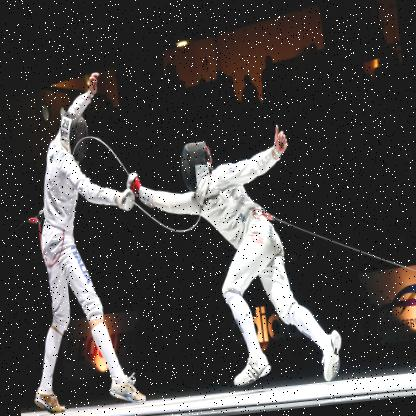fencer: (118, 99, 368, 404), (0, 62, 160, 415)
